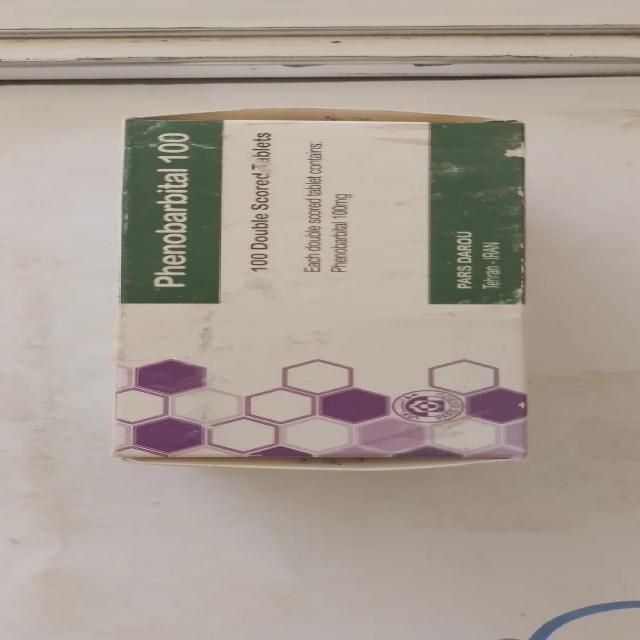drug-name: (146, 125, 192, 292)
